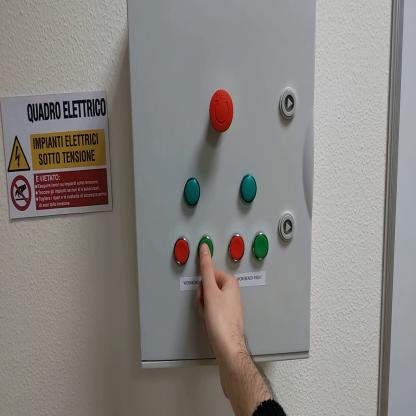hand: (197, 241, 250, 376)
left green button: (199, 235, 214, 258)
left red button: (176, 238, 190, 267)
right green button: (255, 233, 269, 262)
right red button: (229, 235, 246, 264)
